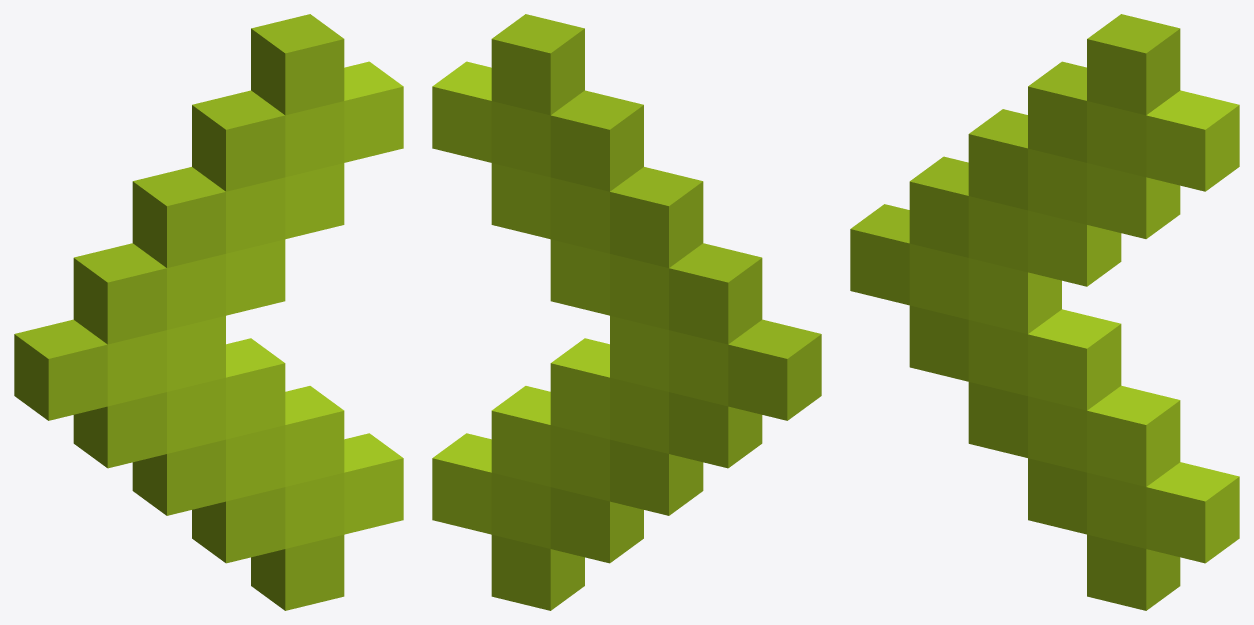
Rendered from bar-8.obj.
3 views of the same model, side by side, from view 1: azimuth 30°, elevation 25°; view 2: azimuth 150°, elevation 25°; view 3: azimuth 330°, elevation 25° (orthographic).
Bounding box in the file's own units: 0.6 × 0.9 × 0.1.
1 material, 1 textured.
